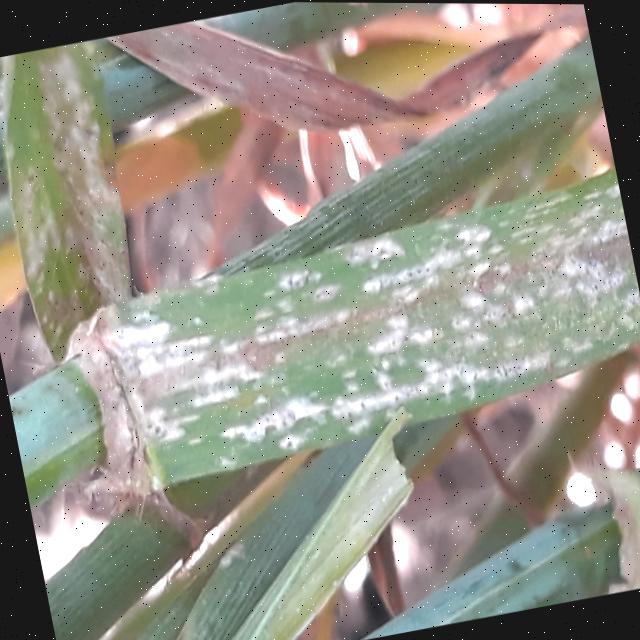powder_mildew: (0, 0, 640, 616)
